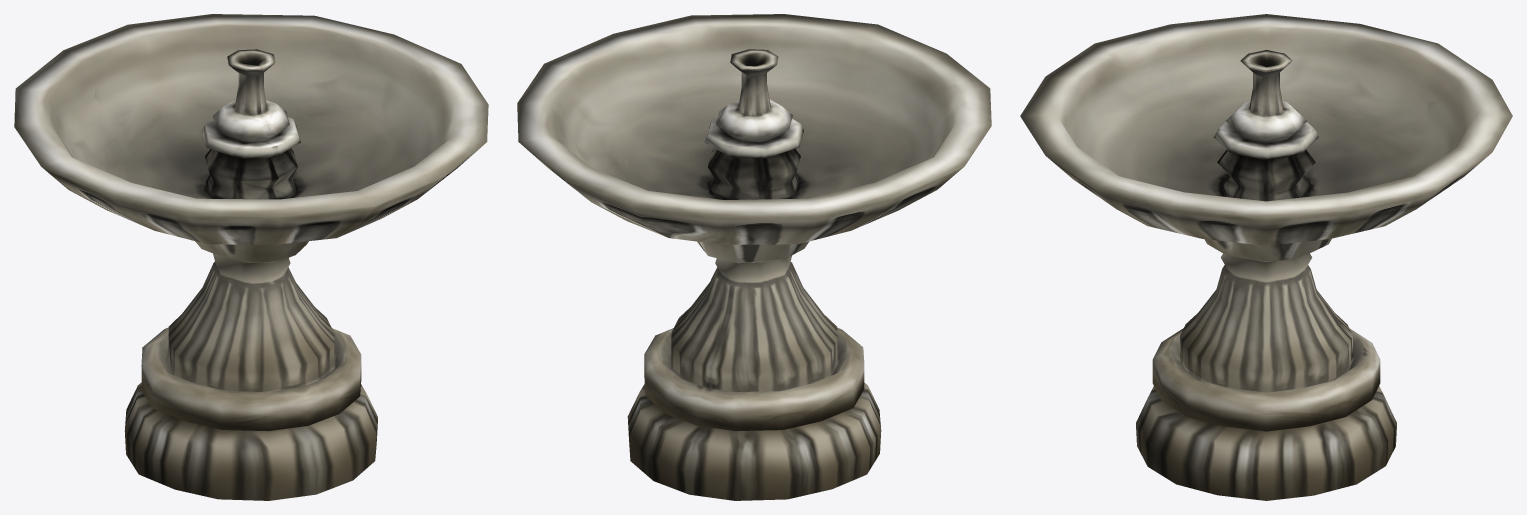
File: forgotten well.fbx
3 views of the same model, side by side, from view 1: azimuth 30°, elevation 25°; view 2: azimuth 150°, elevation 25°; view 3: azimuth 270°, elevation 25° (orthographic).
Parts seen in each view (by area): view 1: Cube; view 2: Cube; view 3: Cube.
Part boxes in pixels (x1,y1,x2,y2): Cube: (14, 14, 488, 500); Cube: (517, 14, 991, 500); Cube: (1020, 14, 1512, 500).
Size of the model in its own units: 1.15 by 1.01 by 1.17.
1 material, 1 textured.
